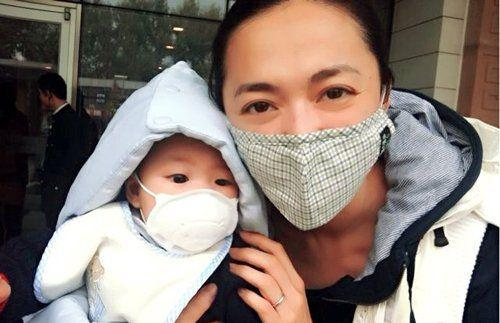OK: (145, 148, 237, 255)
WRONG: (224, 52, 382, 230)
